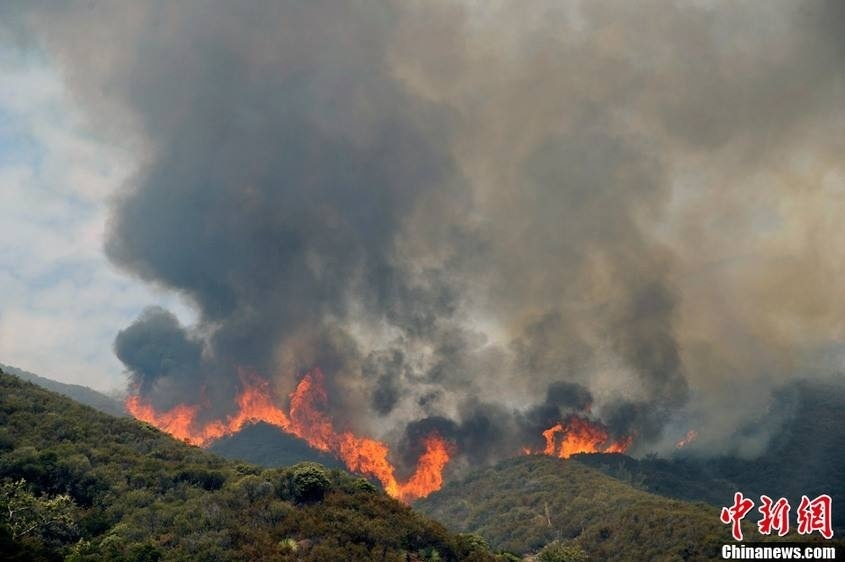fire: (133, 367, 454, 503), (518, 413, 638, 462)
